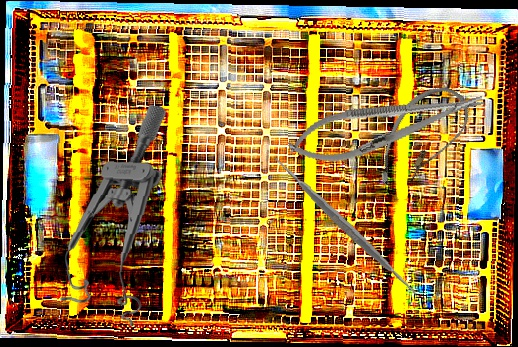Cannula: (366, 73, 479, 206)
Needle Holder: (284, 77, 489, 174)
Spatula Surgical: (265, 146, 426, 305)
Speculum: (57, 101, 168, 327)
